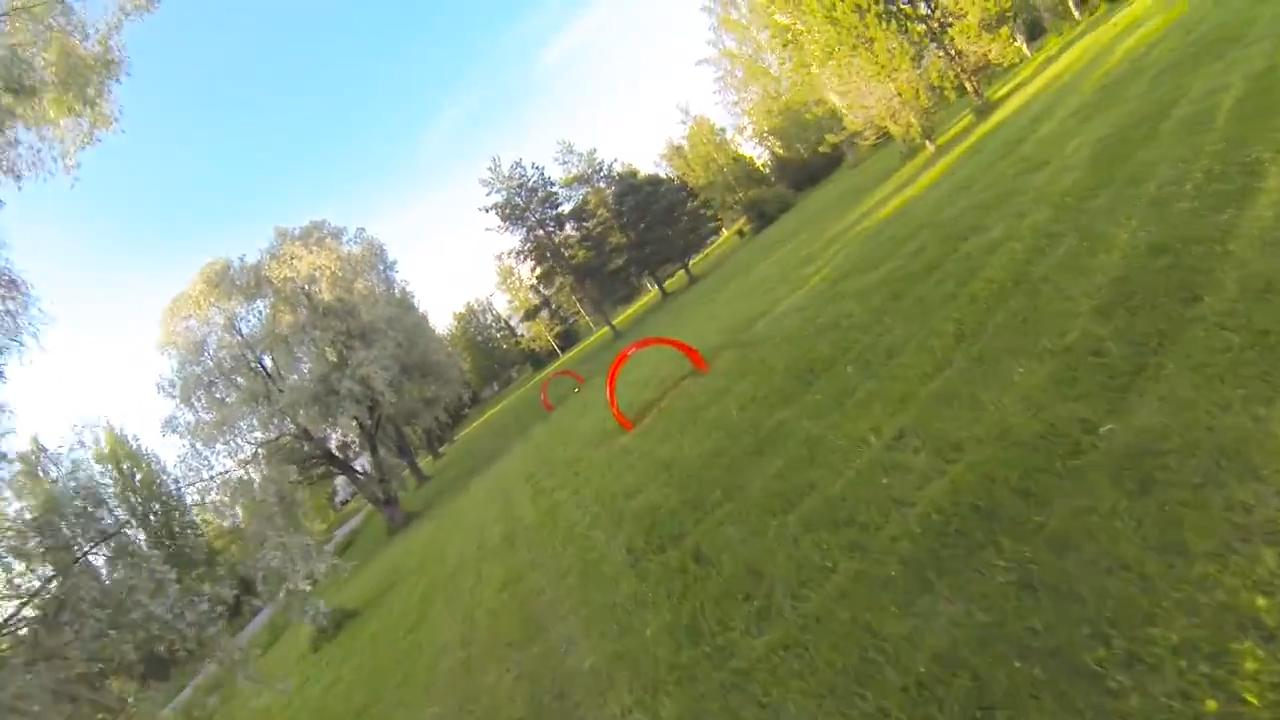gate: (603, 333, 709, 433)
